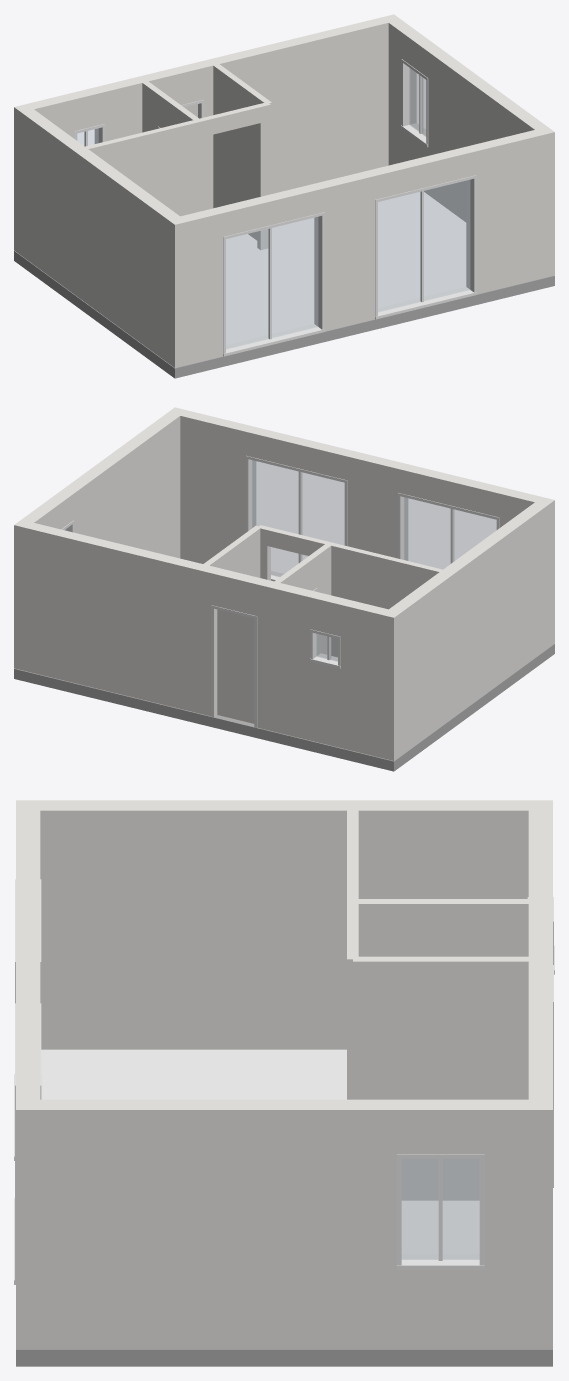
Rendered from loft35_scandi_shell.glb.
The picture shows the model from 3 angles, top to bottom: view 1: azimuth 30°, elevation 25°; view 2: azimuth 150°, elevation 25°; view 3: azimuth 270°, elevation 25°; orthographic projection. The views are drawn at different scales.
Parts seen in each view (by area): view 1: Ext_W, Ext_N.005, Floor_Studio, Ext_S.004, Frame.010, Frame.004, Ext_S, Ext_E, Ext_S.002, y32, Slab, x36 (+21 smaller); view 2: Ext_N.005, Ext_W, Ext_E, Ext_N, Ext_S.004, Ext_N.003, Frame.010, Slab, Ext_S.002, y32, Frame.004, EntranceDoor (+15 smaller); view 3: Ext_W, Ext_E, x36, Floor_Studio, Ext_E.003, Ext_N.005, Slab, Ext_S.004, Frame.025, Ext_E.001, Ext_E.002, Floor_Sleeping_niche (+13 smaller).
Part boxes in pixels (x1,y1,x2,y2): Ext_W: (21, 109, 179, 362); Ext_N.005: (196, 14, 400, 208); Floor_Studio: (226, 204, 466, 344); Ext_S.004: (469, 127, 554, 294); Frame.010: (378, 180, 470, 312); Frame.004: (226, 217, 318, 348); Ext_S: (167, 207, 222, 367); Ext_E: (428, 48, 547, 221); Ext_S.002: (317, 170, 374, 331); y32: (85, 117, 209, 216); Slab: (14, 250, 554, 378); x36: (213, 64, 271, 240); Ext_N.005: (14, 520, 218, 716); Ext_W: (389, 502, 547, 755); Ext_E: (61, 412, 180, 558); Ext_N: (341, 599, 401, 760); Ext_S.004: (168, 407, 252, 563); Ext_N.003: (257, 579, 317, 740); Frame.010: (252, 460, 344, 576); Slab: (14, 643, 554, 771); Ext_S.002: (347, 451, 404, 558); y32: (318, 540, 442, 657); Frame.004: (404, 497, 496, 569); EntranceDoor: (217, 609, 254, 723); Ext_W: (40, 800, 528, 1049); Ext_E: (40, 1099, 396, 1348); x36: (353, 956, 528, 1200); Floor_Studio: (41, 1049, 346, 1099); Ext_E.003: (484, 1099, 528, 1348); Ext_N.005: (528, 949, 552, 1348); Slab: (16, 1349, 552, 1366); Ext_S.004: (16, 1046, 40, 1348); Frame.025: (402, 1159, 479, 1259); Ext_E.001: (396, 1270, 484, 1348); Ext_E.002: (396, 1099, 484, 1154); Floor_Sleeping_niche: (401, 1200, 479, 1253).
Bounding box in the file's own units: 7.52 × 2.9 × 5.54.
